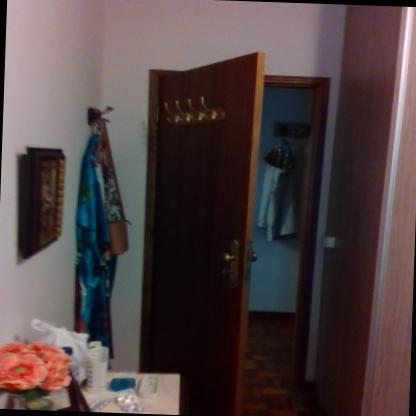semi: (129, 49, 340, 416)
